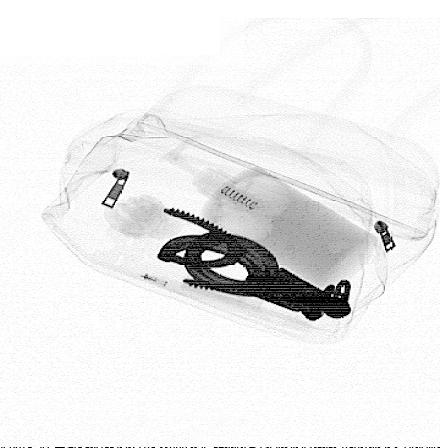HandCuffs: (157, 207, 352, 322)
